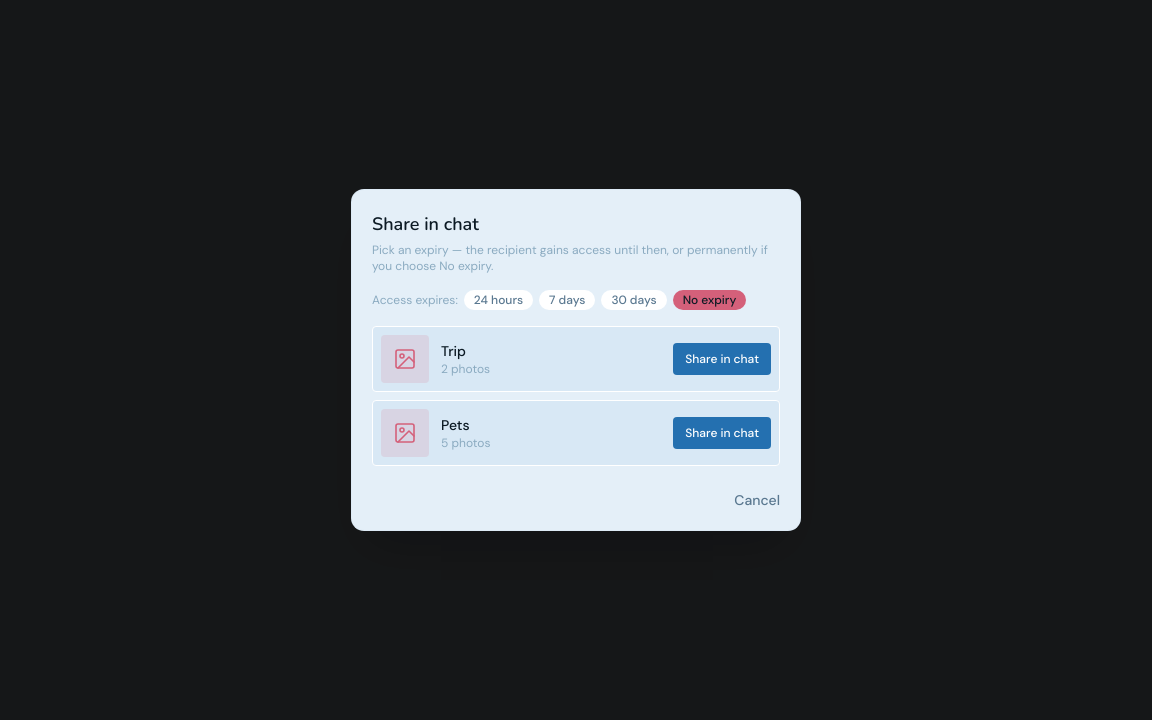
ShareAlbumDialog › shows an error and stays open when sharing fails
Expected: the text "Trip" is shown, [441,342,466,360]
What coordinates should you click on to do the following:
click the button "Share in chat" in the row of "Trip"
I would click on:
 (722, 359)
Its box is [673,343,771,375].
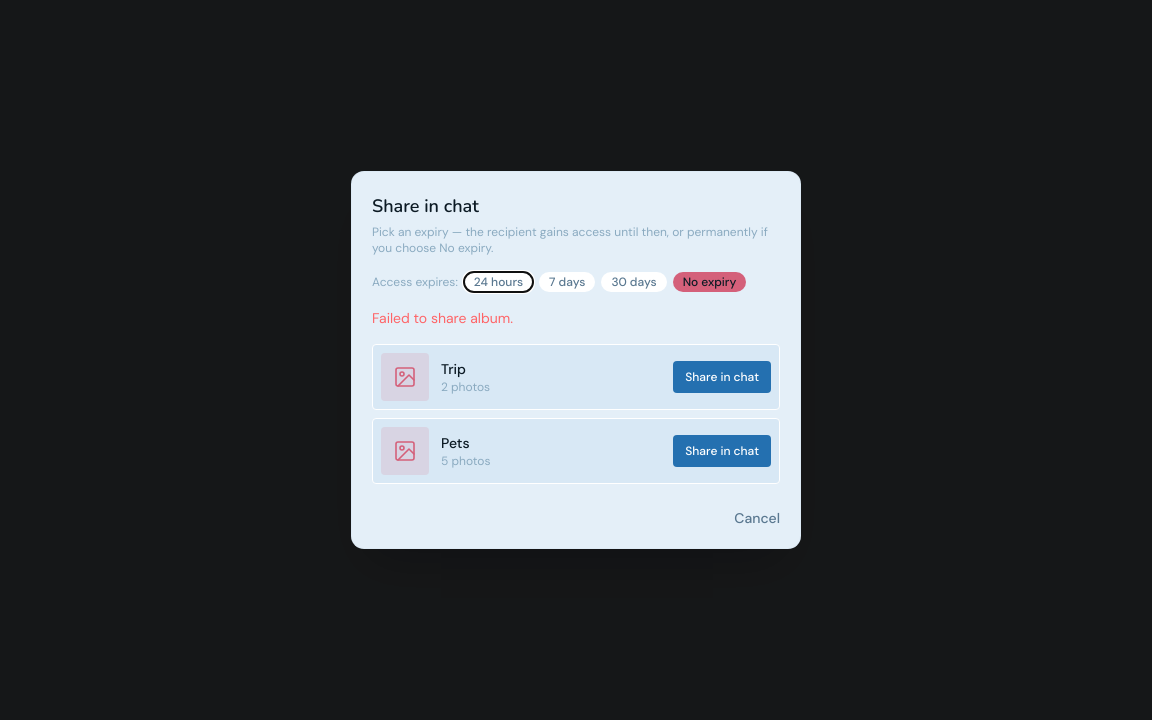
Expected: the message reads "Failed to share album.", [372,309,513,327]
